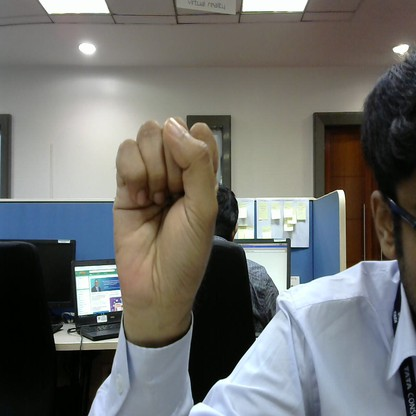s: (110, 114, 236, 330)
